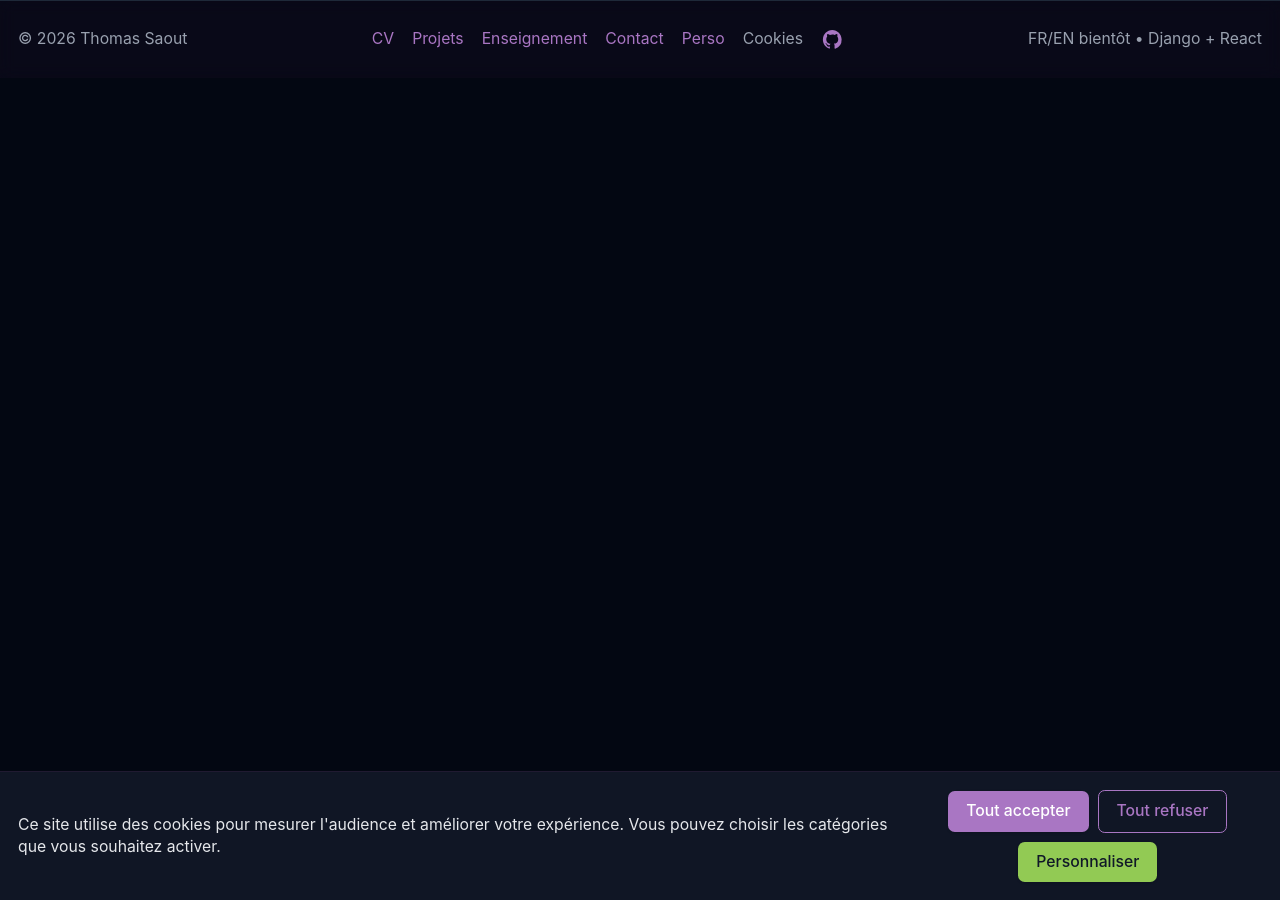
CookieConsent › opens the preferences modal from the footer "Cookies" link
Click the button "Tout accepter".
click(1018, 811)  # box [948,791,1089,832]
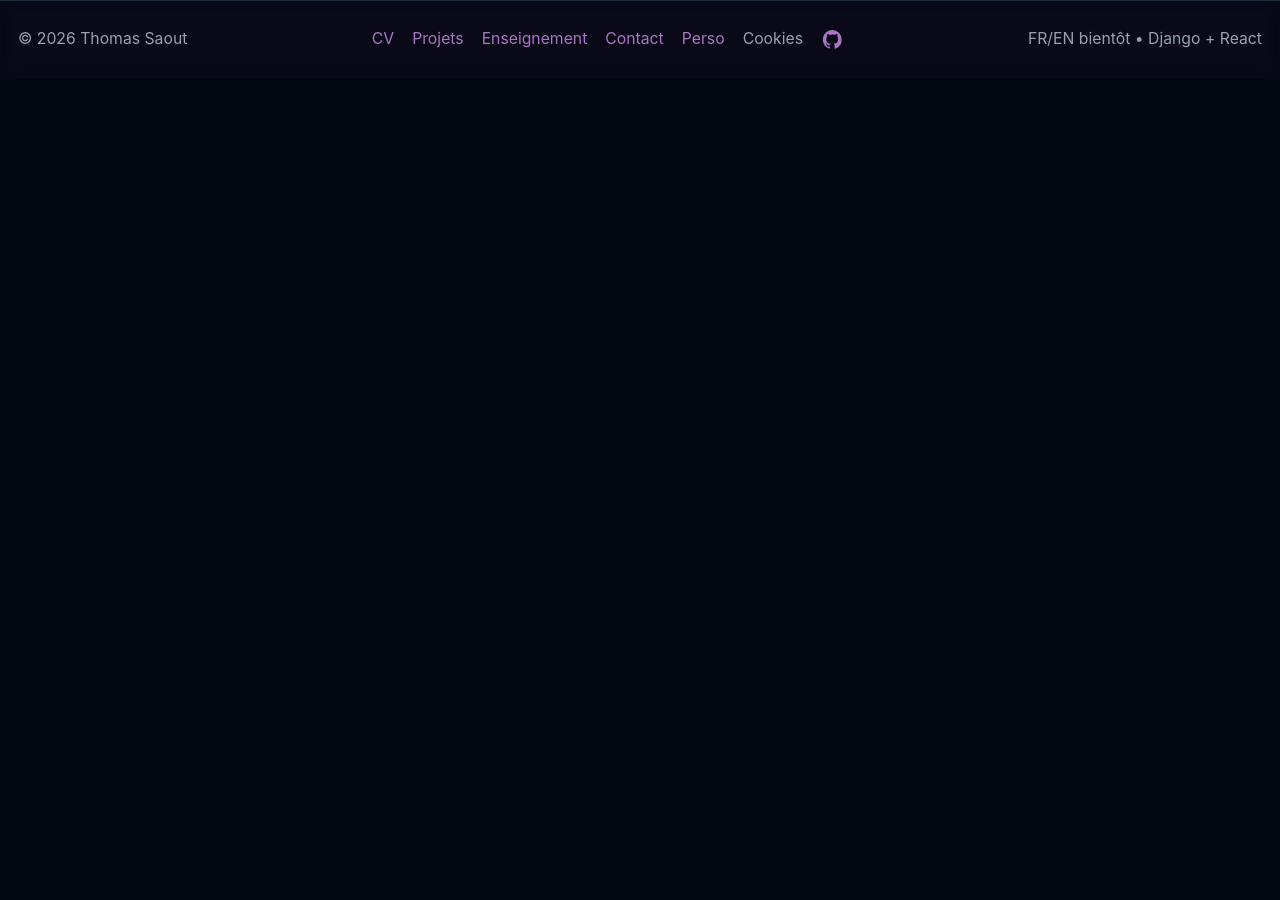
Click the button "Cookies".
click(773, 39)  # box [743,28,803,50]
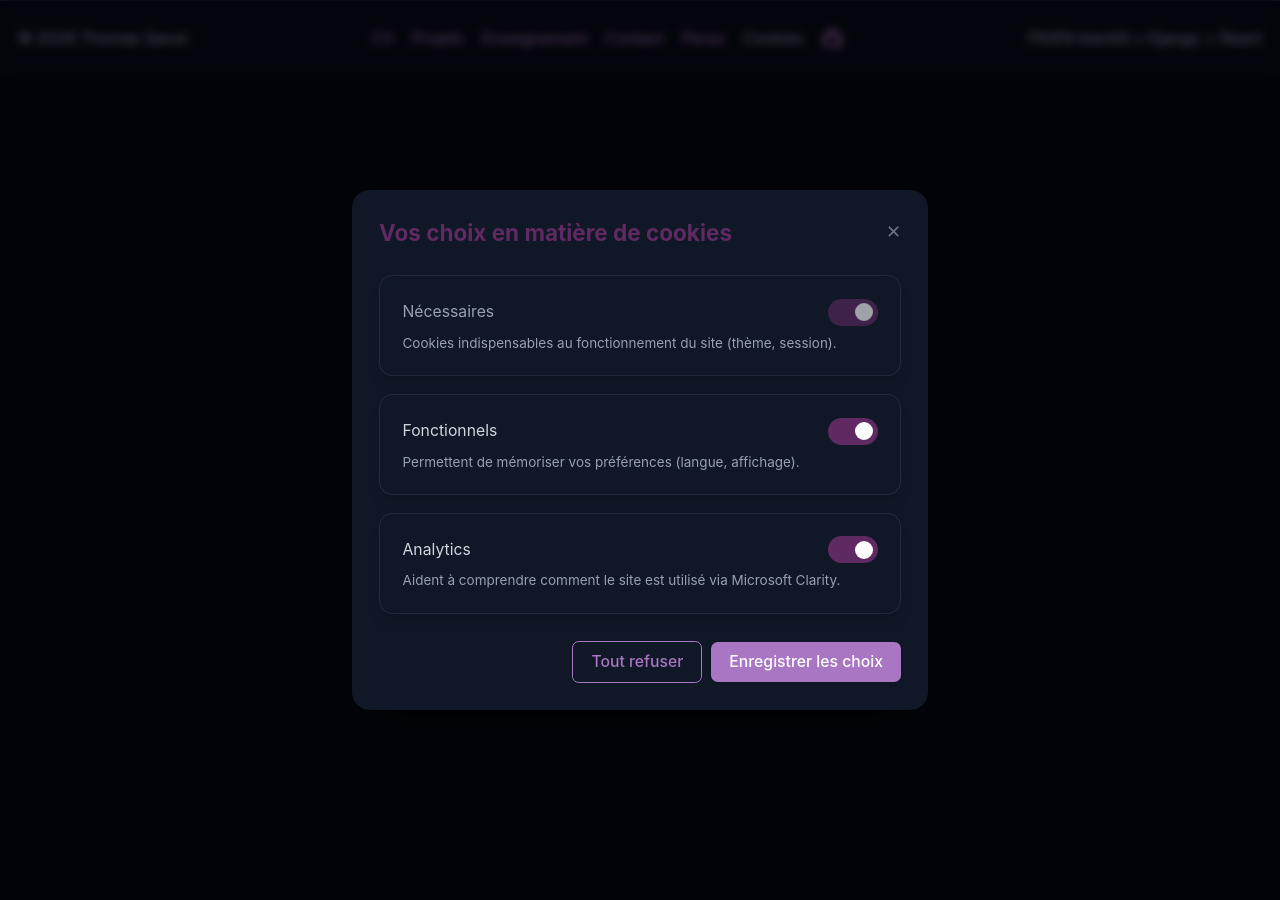
Now the dialog "Vos choix en matière de cookies" is shown, box [352,190,928,710]
